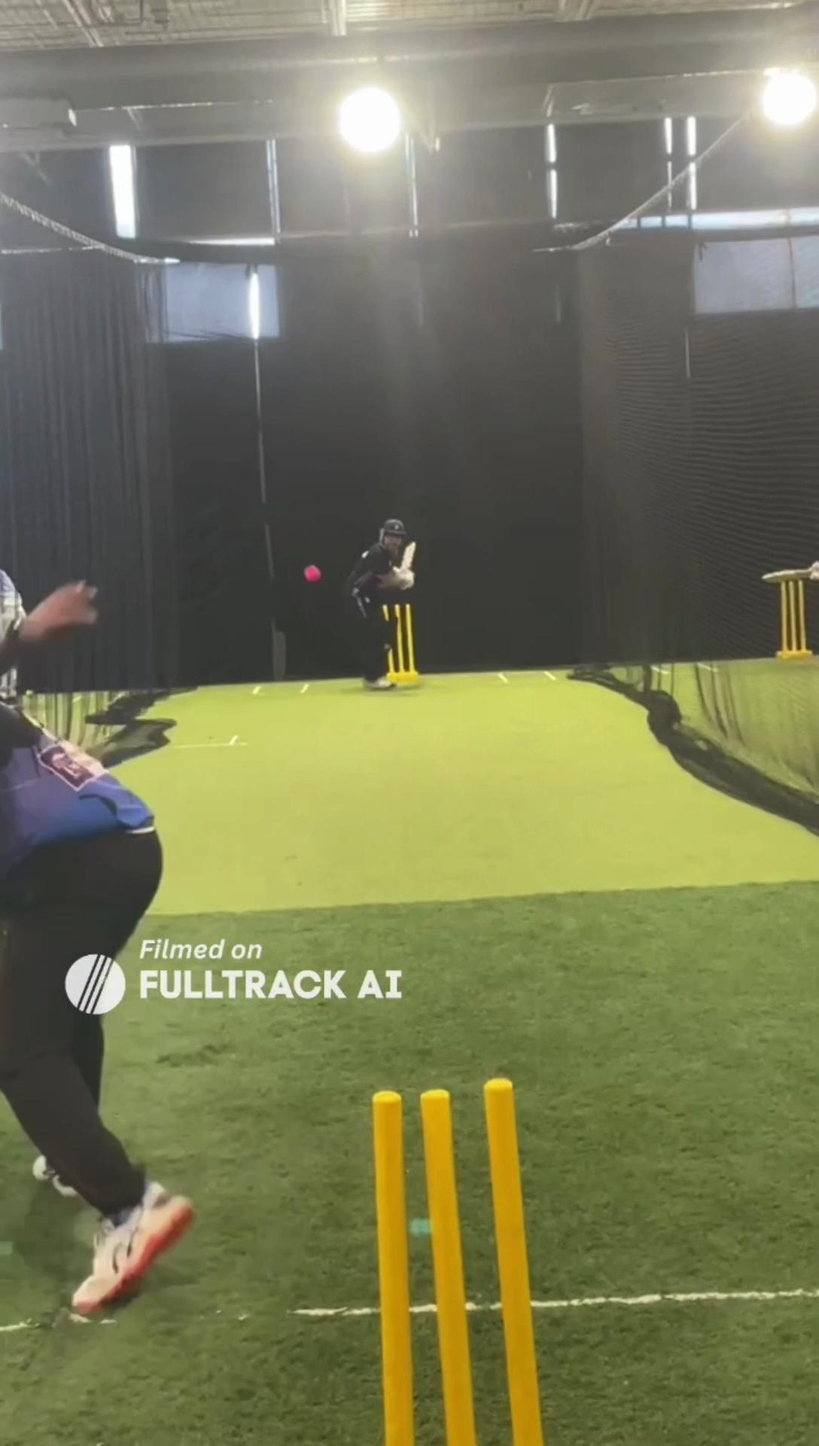ball: (279, 538, 341, 596)
